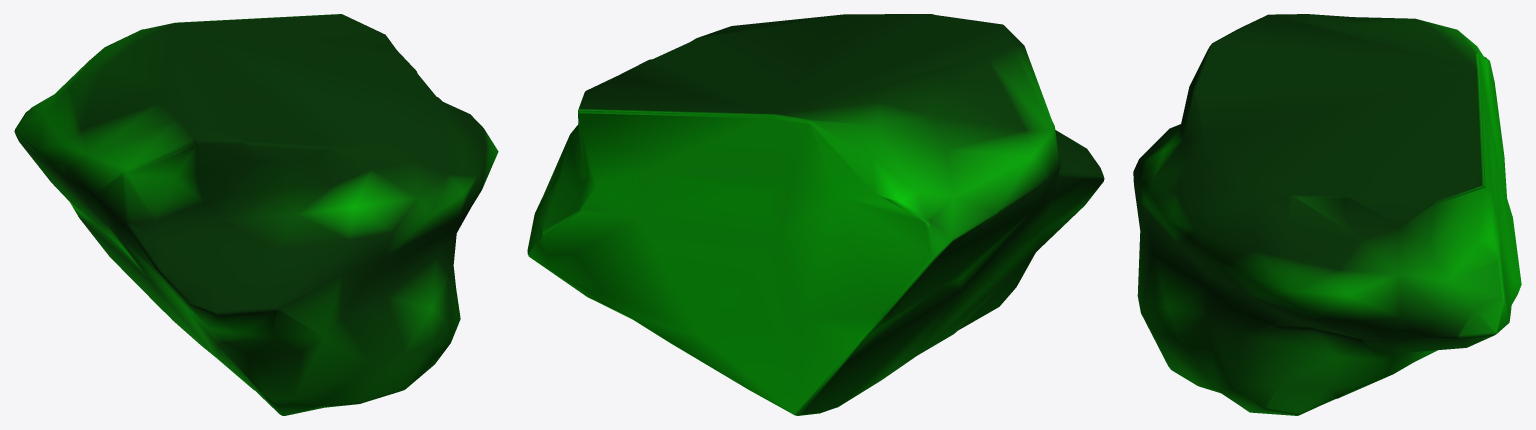
The model's file is boulder-a.glb.
3 views of the same model, side by side, from view 1: azimuth 30°, elevation 25°; view 2: azimuth 150°, elevation 25°; view 3: azimuth 270°, elevation 25° (orthographic). The views are drawn at different scales.
Visible parts, largest first — view 1: boulder-a; view 2: boulder-a; view 3: boulder-a.
Part boxes in pixels (x1,y1,x2,y2): boulder-a: (14, 14, 498, 415); boulder-a: (527, 14, 1104, 415); boulder-a: (1133, 14, 1521, 415).
Size of the model in its own units: 1.23 by 0.8 by 1.02.
